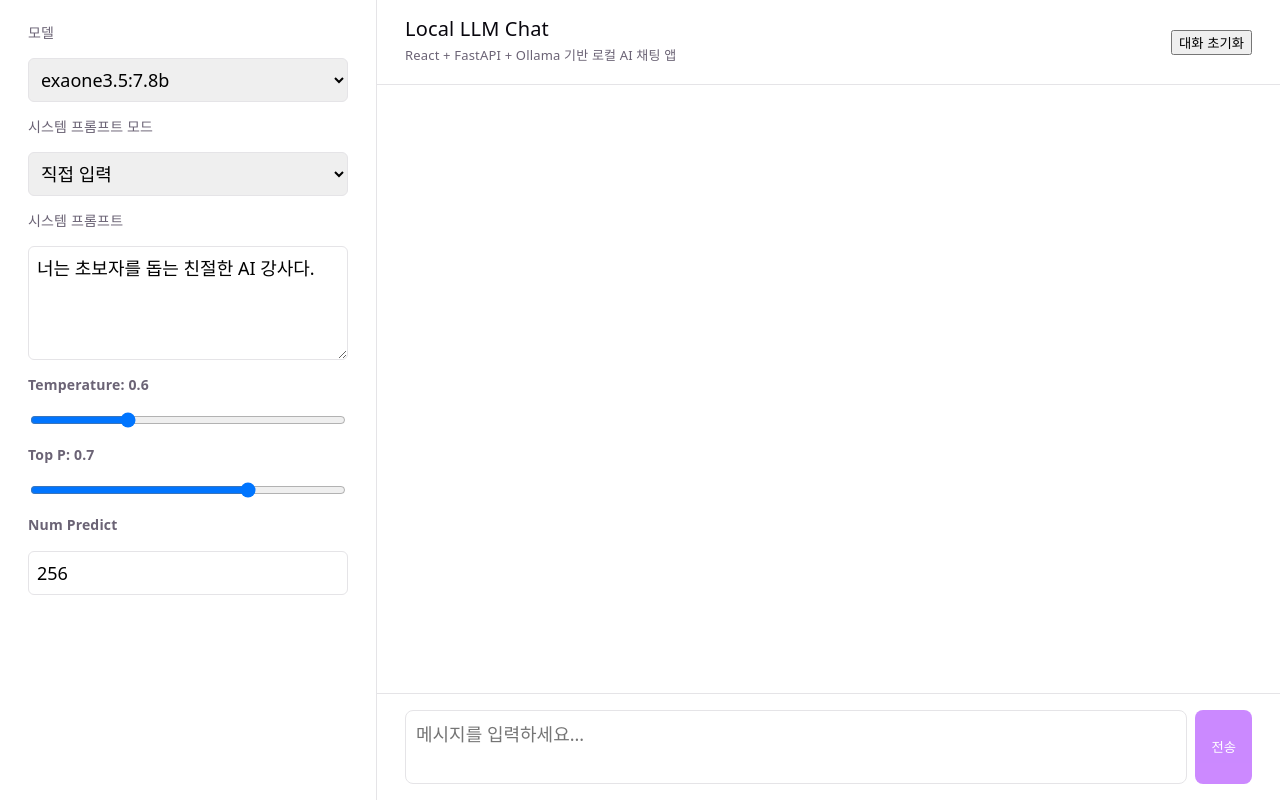
Scenario: App › SettingsPanel + ChatWindow 통합 (4.11) › 전송 실패 시 사용자 메시지는 유지되고 chatError 배너가 표시된다
Type "안녕" into the text box with placeholder "메시지를 입력하세요...".
click(796, 747); type("안녕")  # box [405,710,1188,784]
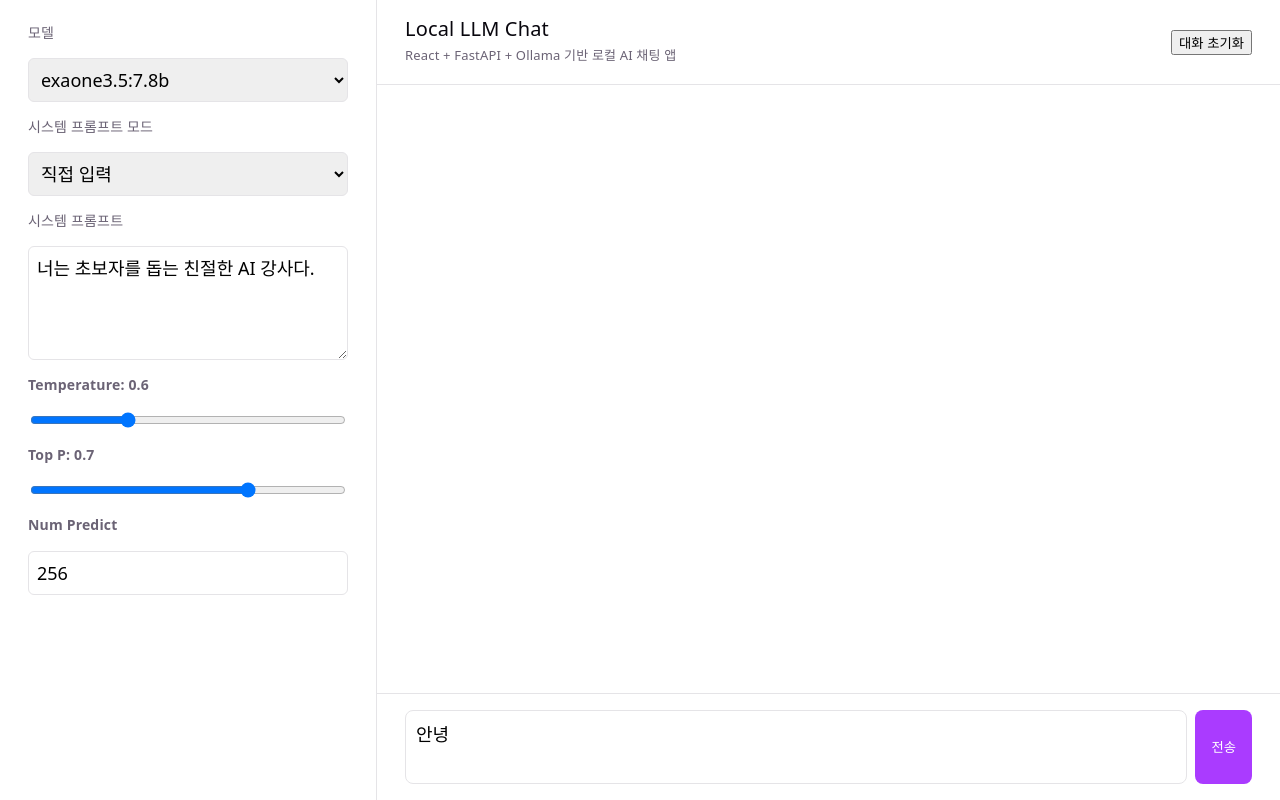
Click the button "전송".
click(1224, 747)  # box [1196,710,1252,784]
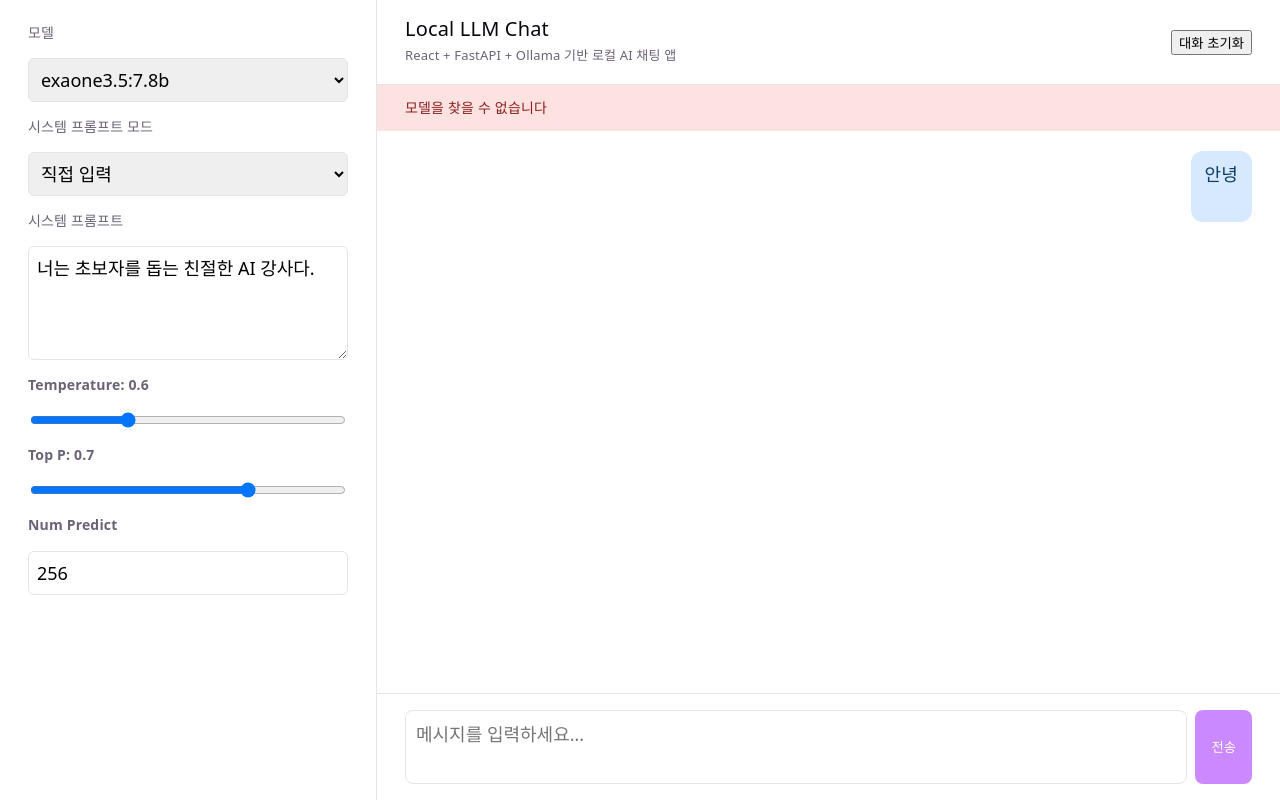
Expected: the text "안녕" is shown, [1204,161,1238,188]
Expected: the message reads "모델을 찾을 수 없습니다", [405,98,547,117]
